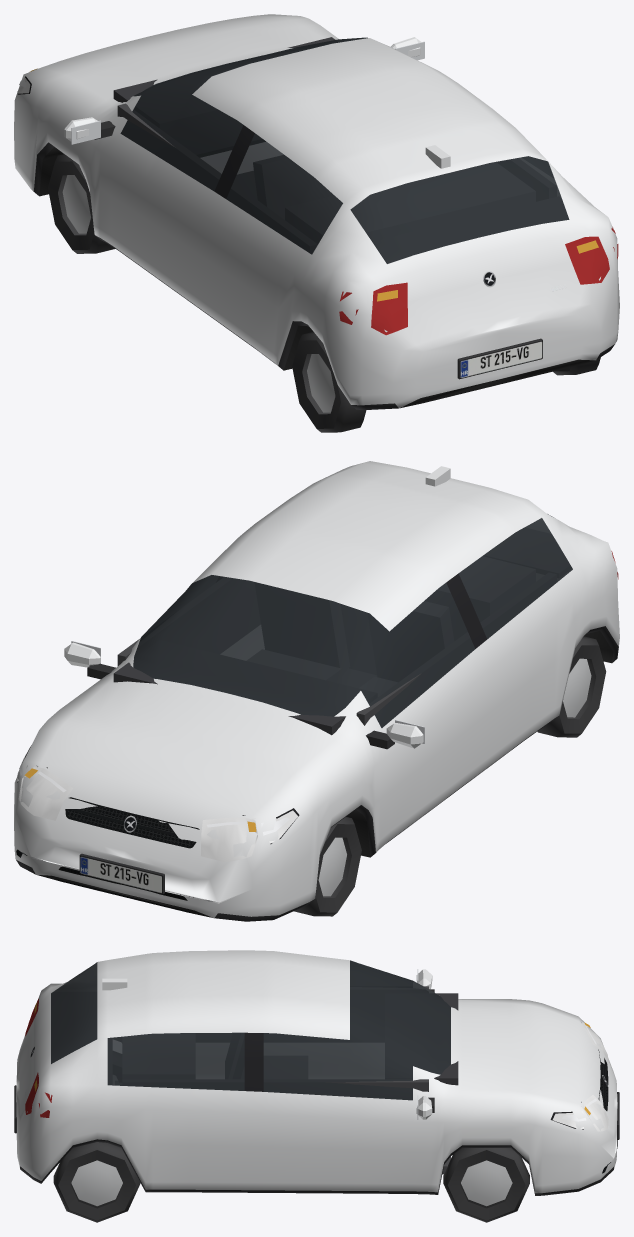
The model's file is golub_lod1.glb.
3 renders of one model, top to bottom at view 1: azimuth 30°, elevation 25°; view 2: azimuth 150°, elevation 25°; view 3: azimuth 270°, elevation 25°, orthographic. The views are drawn at different scales.
Parts seen in each view (by area): view 1: body, wheelmesh_2, wheelmesh_0; view 2: body, wheelmesh_0, wheelmesh_2; view 3: body, wheelmesh_3, wheelmesh_1.
Boxes of the visible parts, bbox=[...] form: body: bbox=[14, 14, 619, 409]; wheelmesh_2: bbox=[292, 332, 366, 432]; wheelmesh_0: bbox=[48, 154, 115, 253]; body: bbox=[14, 461, 619, 921]; wheelmesh_0: bbox=[294, 817, 361, 916]; wheelmesh_2: bbox=[537, 636, 606, 737]; body: bbox=[14, 950, 619, 1195]; wheelmesh_3: bbox=[53, 1142, 140, 1222]; wheelmesh_1: bbox=[443, 1148, 529, 1222].
Size of the model in its own units: 2.24 by 1.46 by 4.13.
Materials: 17 (1 with a texture image).
